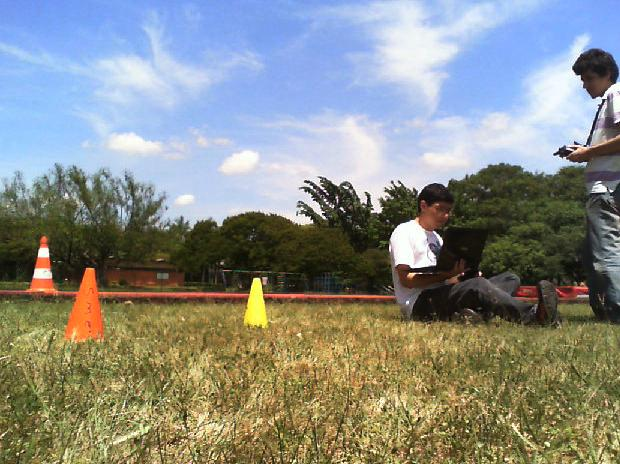0 cone: (61, 268, 106, 343), (27, 237, 57, 293), (243, 278, 268, 330)
